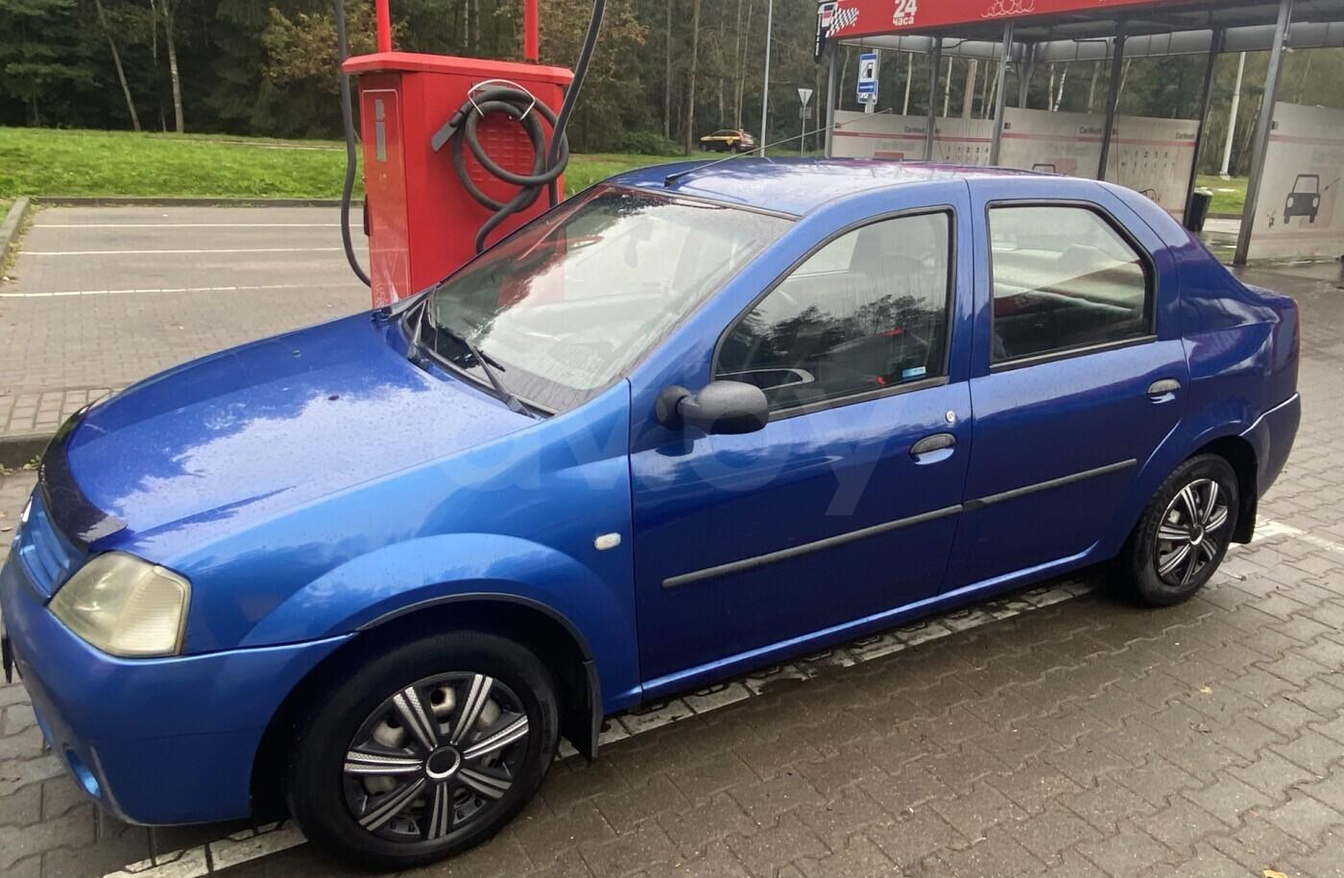Logan_2004-2009: (0, 150, 1308, 865)
